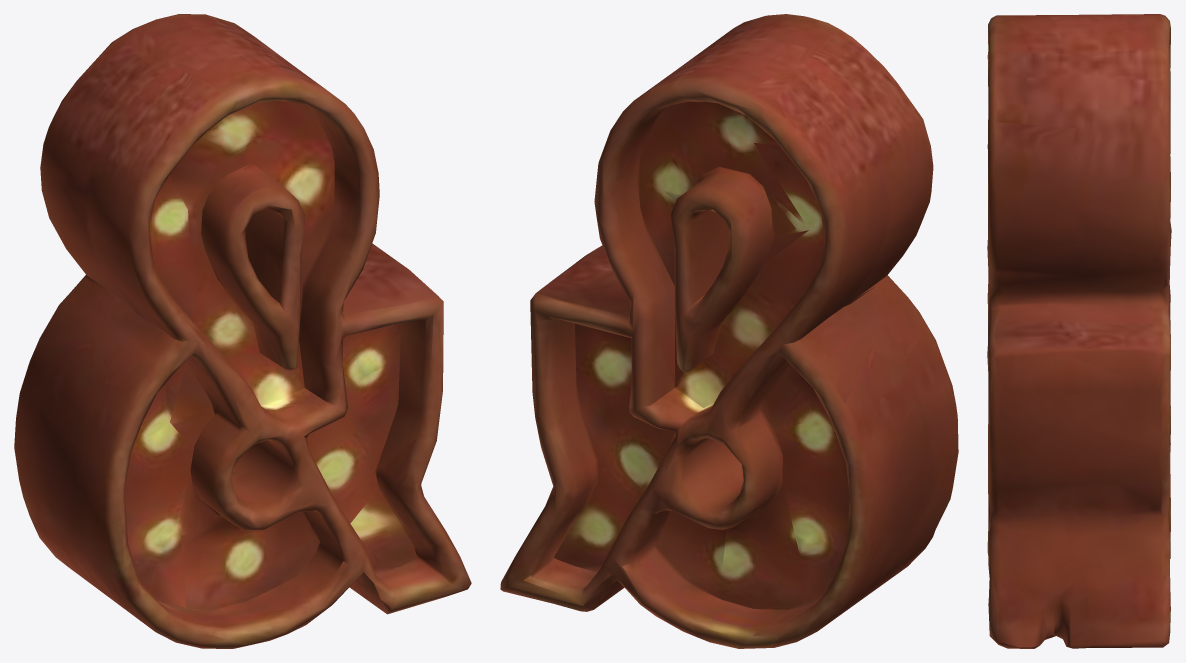
File: sign_amp_idle.glb
3 renders of one model, left to right at view 1: azimuth 30°, elevation 25°; view 2: azimuth 150°, elevation 25°; view 3: azimuth 270°, elevation 25°, orthographic. The views are drawn at different scales.
Visible parts, largest first — view 1: tmp_digits_4_9_signs_06; view 2: tmp_digits_4_9_signs_06; view 3: tmp_digits_4_9_signs_06.
Part boxes in pixels (bbox=[...]): tmp_digits_4_9_signs_06: bbox=[14, 14, 471, 648]; tmp_digits_4_9_signs_06: bbox=[500, 14, 958, 648]; tmp_digits_4_9_signs_06: bbox=[987, 14, 1171, 648].
Bounding box in the file's own units: 0.6876 × 0.9995 × 0.3174.
1 material, 1 textured.
